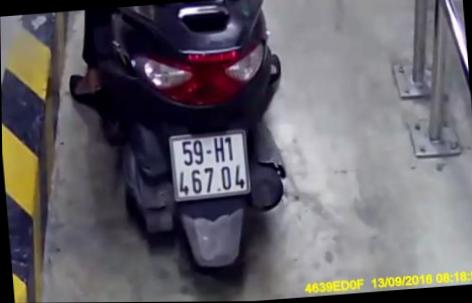LP: (166, 129, 252, 202)
